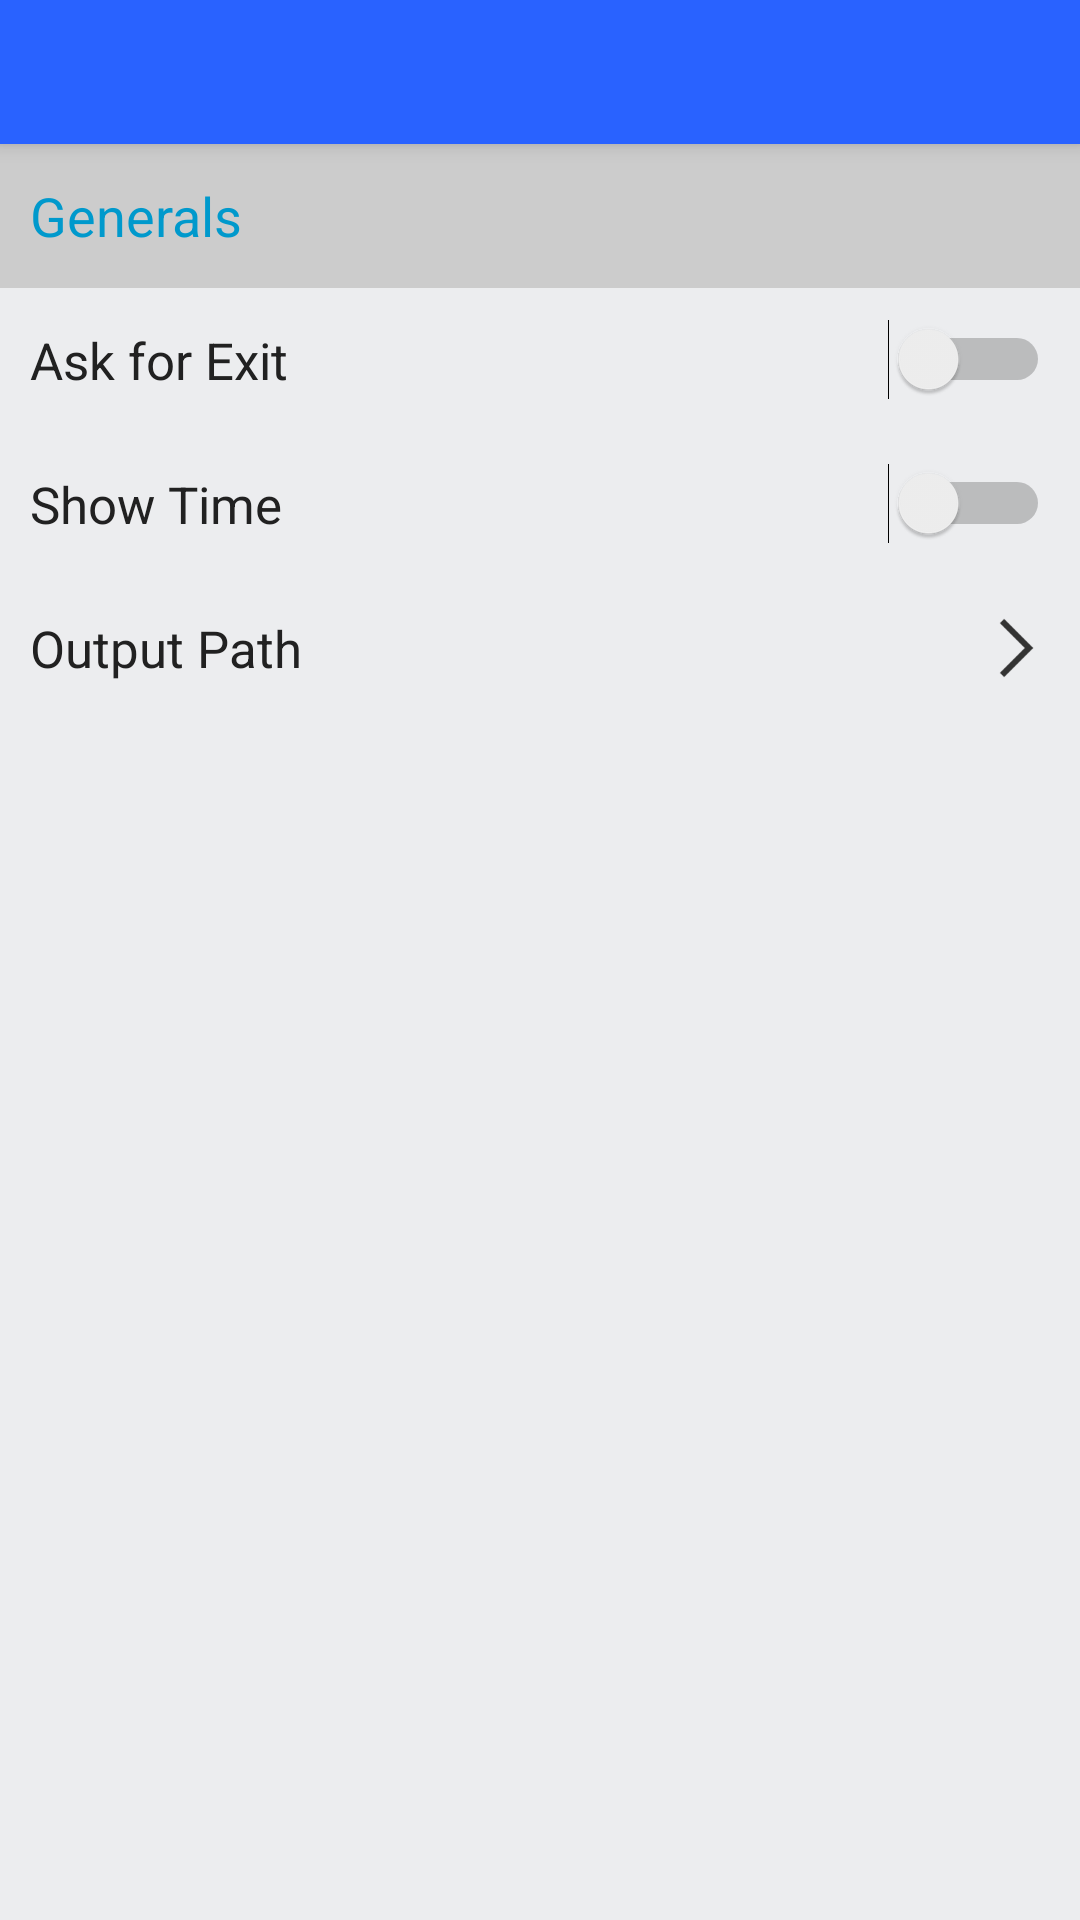

Named icons in this screenshot (1080*1920) and their bounding boxes, bbox=[x1, y1, x2, y2]:
forward: bbox=[1000, 619, 1033, 677]
